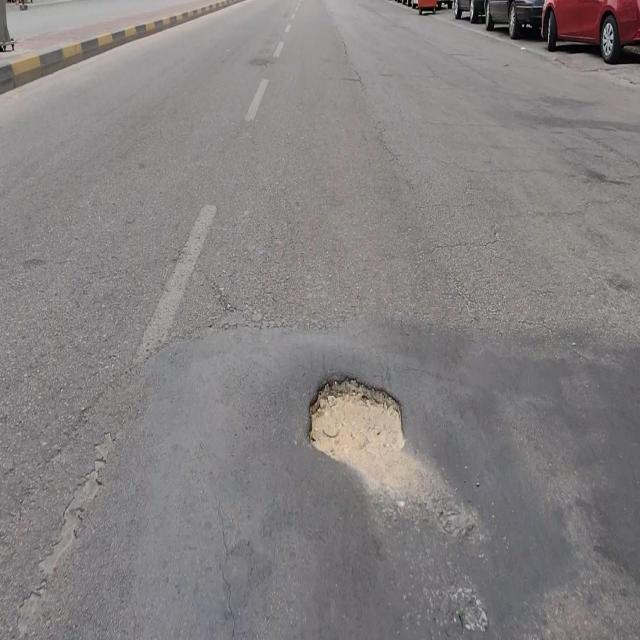Potholes: (305, 369, 410, 491)
